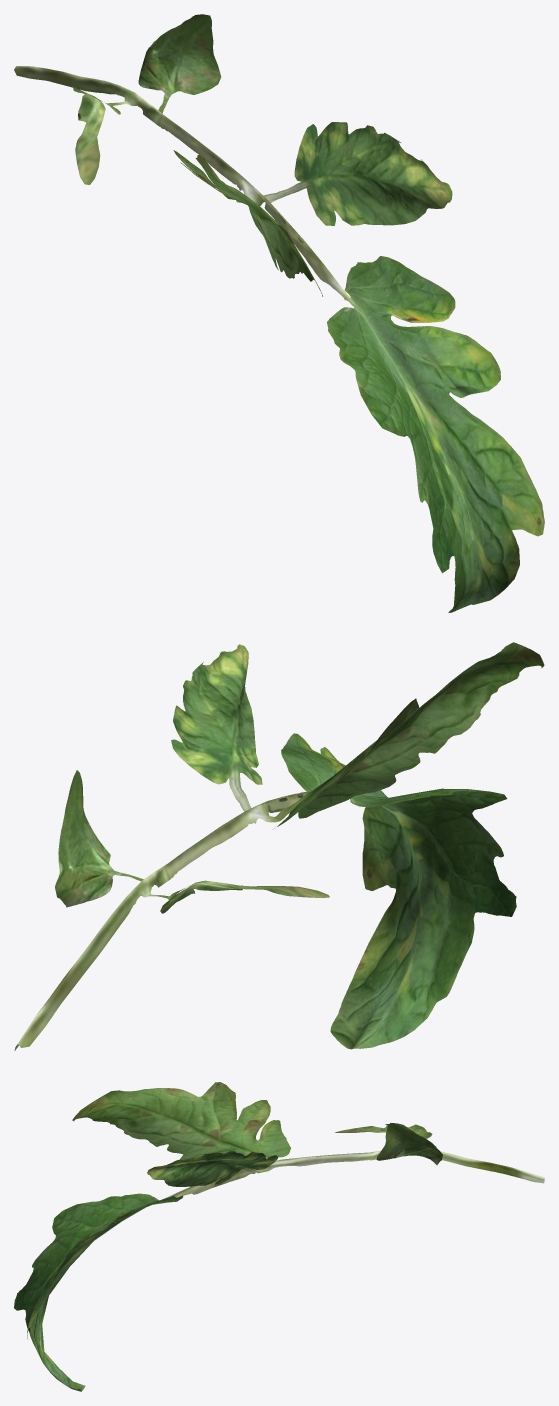
Rendered from Branch_03.fbx.
3 views of the same model, one above another, from view 1: azimuth 30°, elevation 25°; view 2: azimuth 150°, elevation 25°; view 3: azimuth 270°, elevation 25° (orthographic). The views are drawn at different scales.
Parts seen in each view (by area): view 1: Tomat1_Stvol.002; view 2: Tomat1_Stvol.002; view 3: Tomat1_Stvol.002.
Part boxes in pixels (left/top/right/bottom): Tomat1_Stvol.002: left=14, top=14, right=544, bottom=612; Tomat1_Stvol.002: left=14, top=642, right=544, bottom=1050; Tomat1_Stvol.002: left=14, top=1082, right=544, bottom=1391.
Bounding box in the file's own units: 673 × 1213 × 2217.
